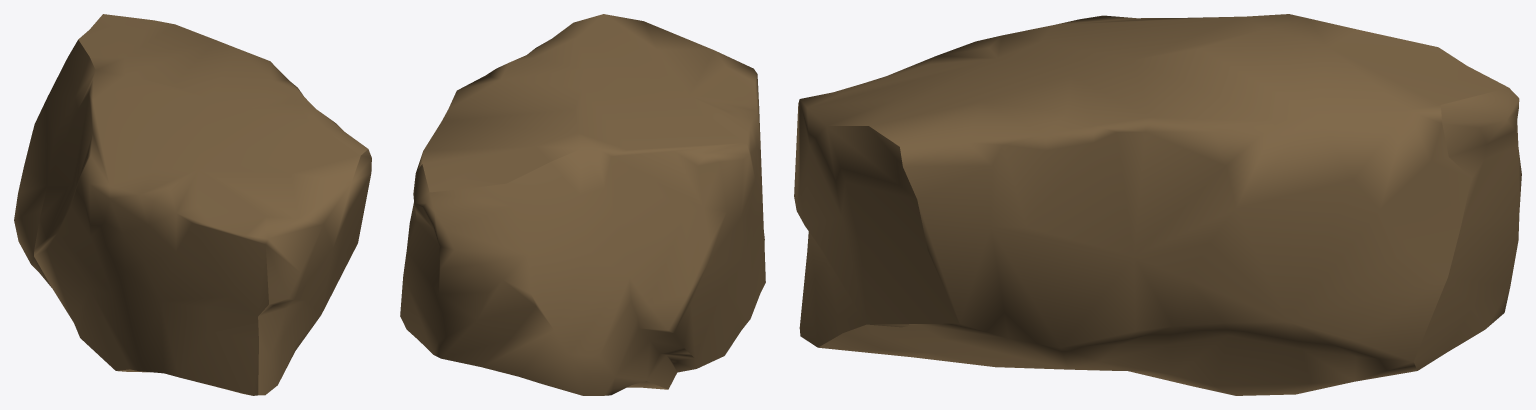
3 views of the same model, side by side, from view 1: azimuth 30°, elevation 25°; view 2: azimuth 150°, elevation 25°; view 3: azimuth 270°, elevation 25° (orthographic). The views are drawn at different scales.
Parts seen in each view (by area): view 1: SM_BM_Cliff_Top_03_LOD0; view 2: SM_BM_Cliff_Top_03_LOD0; view 3: SM_BM_Cliff_Top_03_LOD0.
Part boxes in pixels (x1,y1,x2,y2): SM_BM_Cliff_Top_03_LOD0: (14, 14, 371, 395); SM_BM_Cliff_Top_03_LOD0: (400, 14, 765, 395); SM_BM_Cliff_Top_03_LOD0: (794, 14, 1521, 395).
Size of the model in its own units: 0.3765 by 0.3665 by 0.664.
